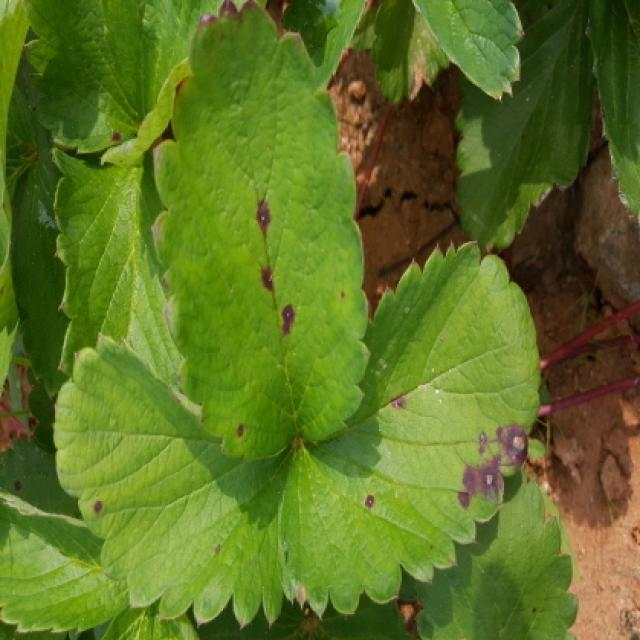Leaf Spot: (151, 0, 371, 466), (281, 239, 541, 619), (53, 331, 295, 630), (21, 0, 228, 168)
